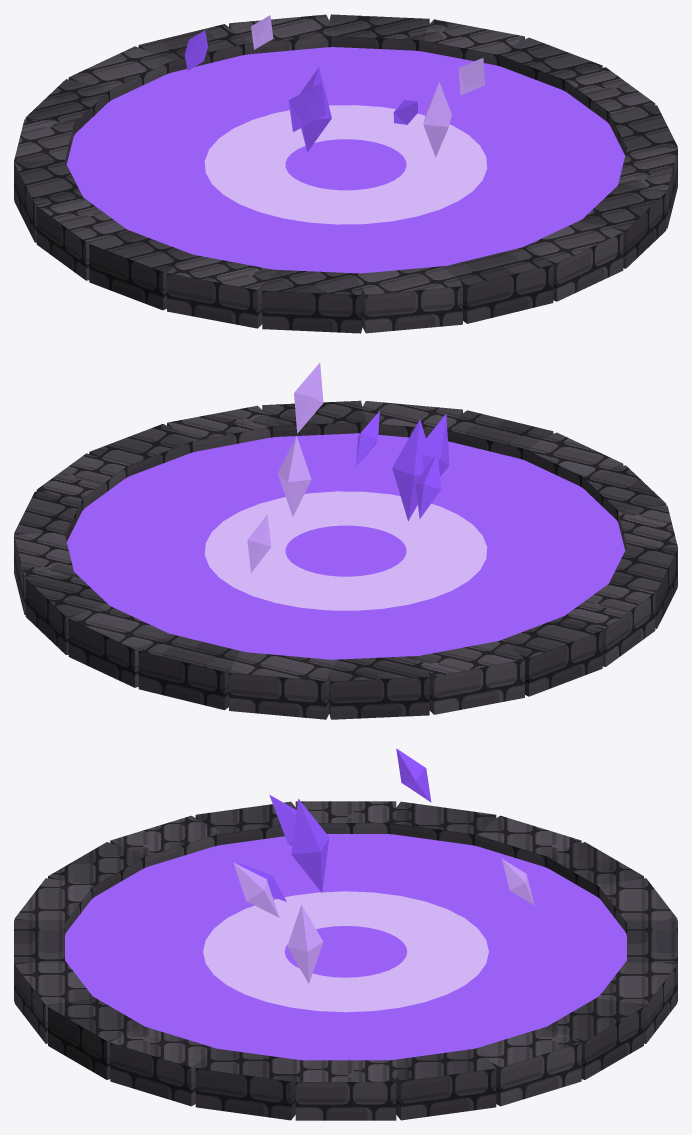
File: splitterbecken.glb
3 renders of one model, top to bottom at view 1: azimuth 30°, elevation 25°; view 2: azimuth 150°, elevation 25°; view 3: azimuth 270°, elevation 25°, orthographic.
Parts seen in each view (by area): view 1: flammen, modell; view 2: flammen, modell; view 3: flammen, modell.
Boxes of the visible parts, x1,y1,x2,y2 form: flammen: [66, 15, 624, 273]; modell: [14, 14, 677, 333]; flammen: [66, 362, 625, 659]; modell: [14, 400, 677, 719]; flammen: [65, 748, 626, 1060]; modell: [14, 801, 677, 1120].
Bounding box in the file's own units: 6.5 × 1.99 × 6.5.
Materials: 3 (1 with a texture image).
